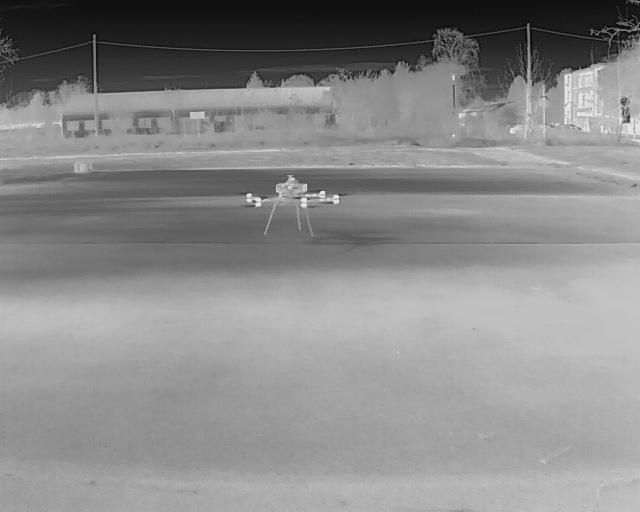drone: (237, 177, 342, 245)
